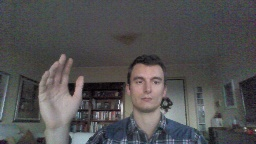Mano_aperta: (35, 49, 86, 131)
